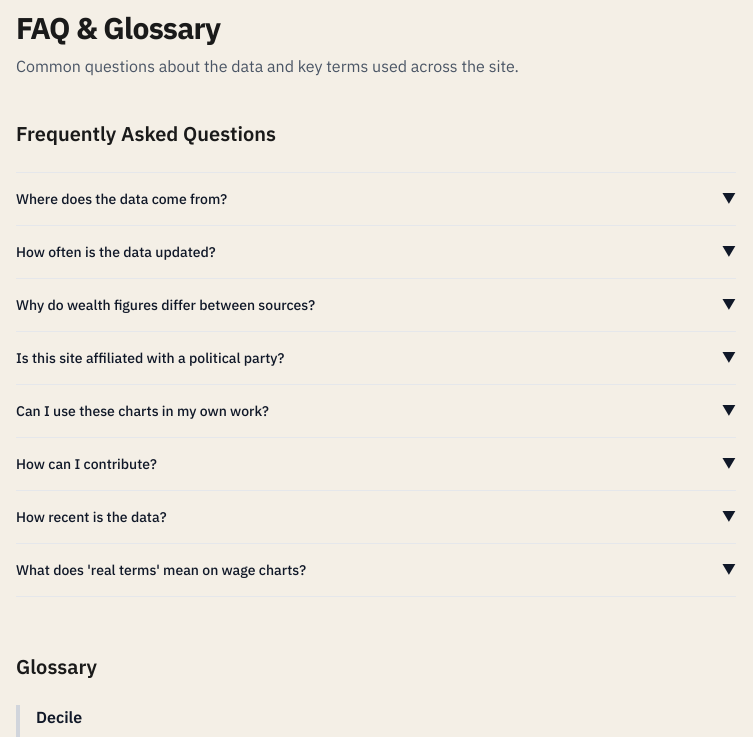
it: FaqView › toggles FAQ answer visibility on click
This screenshot has width=753, height=737.
Click the button "Where does the data come from? ▼".
click(122, 199)  # box [16,173,736,225]
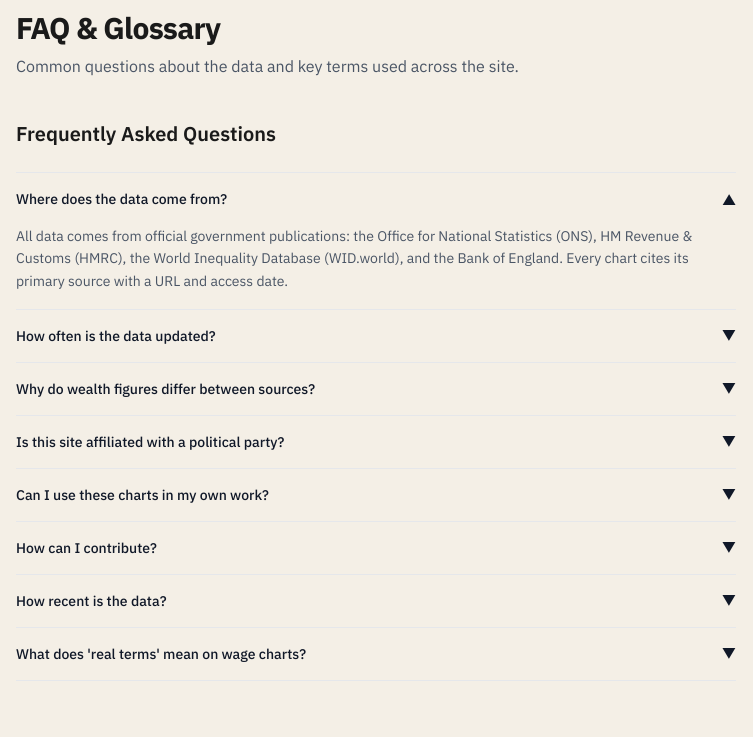
Expected: the button "Where does the data come from? ▼" is expanded
Click the button "Where does the data come from? ▼".
click(122, 199)  # box [16,173,736,225]
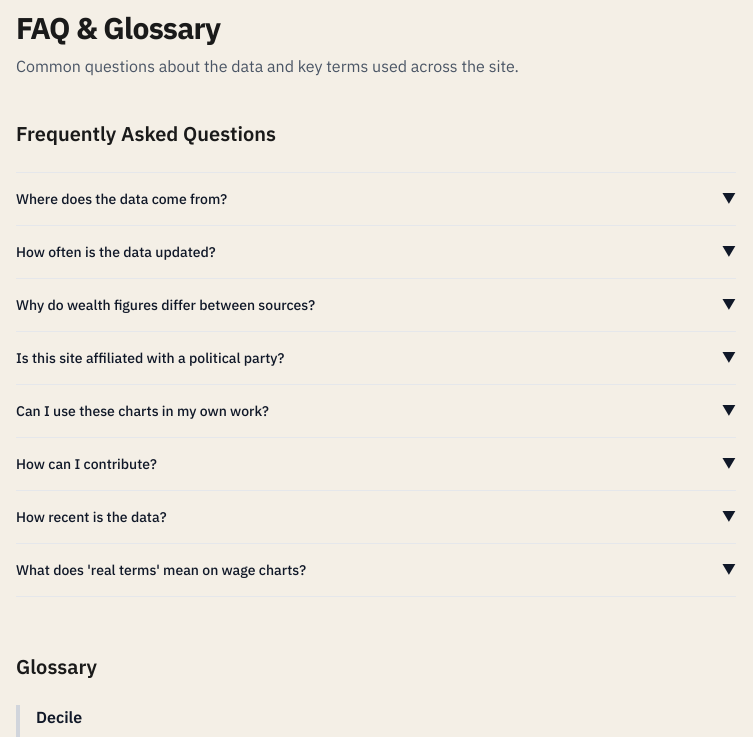
Expected: the button "Where does the data come from? ▼" is collapsed, [16,173,736,225]
